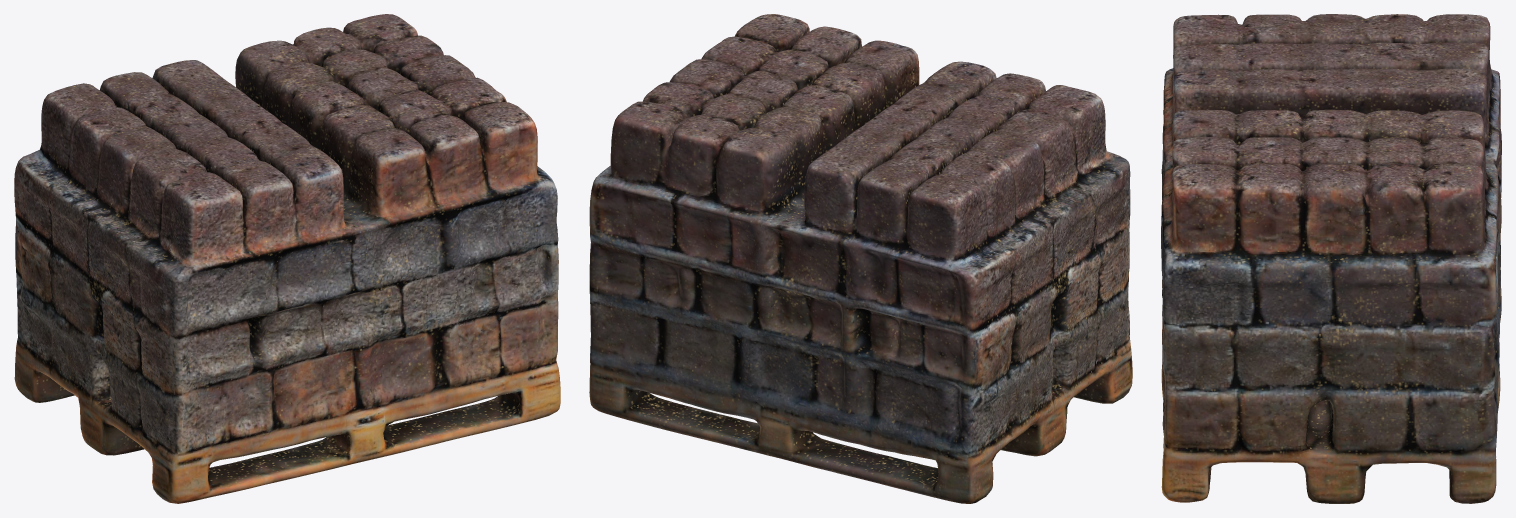
The model's file is pile_bricks_in_pallet.glb.
3 renders of one model, left to right at view 1: azimuth 30°, elevation 25°; view 2: azimuth 150°, elevation 25°; view 3: azimuth 270°, elevation 25°, orthographic. The views are drawn at different scales.
Parts seen in each view (by area): view 1: model; view 2: model; view 3: model.
Part boxes in pixels (x1,y1,x2,y2): model: [14, 14, 560, 503]; model: [589, 14, 1132, 503]; model: [1161, 14, 1501, 503].
Bounding box in the file's own units: 1.39 × 0.9941 × 0.9897.
1 material, 1 textured.
